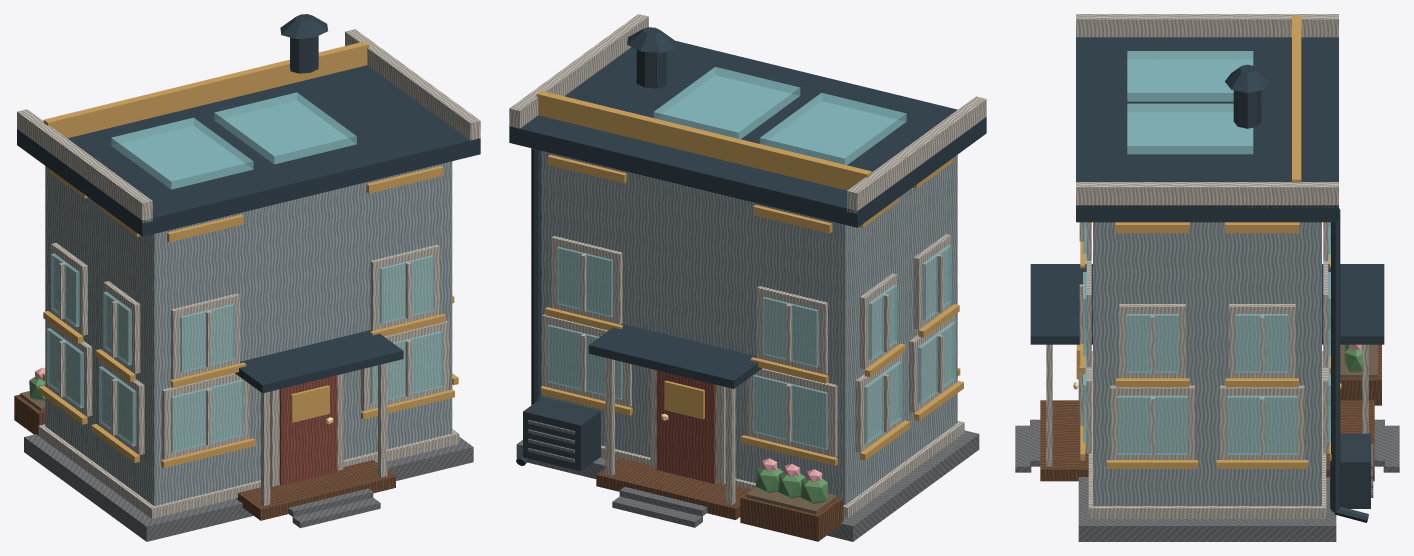
Rendered from house_lv5_b.glb.
The picture shows the model from 3 angles, left to right: view 1: azimuth 30°, elevation 25°; view 2: azimuth 150°, elevation 25°; view 3: azimuth 270°, elevation 25°; orthographic projection. The views are drawn at different scales.
Parts seen in each view (by area): view 1: walls, flat_roof, roof_terrace, foundation, solar_panel, solar_panel.001, front_window_frame, front_porch_canopy, front_door, front_window_frame.003, front_window_frame.002, front_window_frame.001 (+31 smaller); view 2: walls, flat_roof, roof_terrace, solar_panel, solar_panel.001, back_window_frame, back_porch_canopy, back_door, back_window_frame.003, back_window_frame.002, back_window_frame.001, foundation (+37 smaller); view 3: walls, flat_roof, foundation, parapet.001, solar_panel.001, parapet, right_window_frame, right_window_frame.001, solar_panel, right_window_frame.002, right_window_frame.003, front_porch_canopy (+31 smaller).
Part boxes in pixels (x1=…): walls: x1=45, y1=161, x2=452, y2=505; flat_roof: x1=17, y1=65, x2=480, y2=236; roof_terrace: x1=43, y1=41, x2=368, y2=138; foundation: x1=24, y1=434, x2=473, y2=541; solar_panel: x1=111, y1=117, x2=253, y2=189; solar_panel.001: x1=214, y1=92, x2=356, y2=164; front_window_frame: x1=161, y1=373, x2=248, y2=459; front_porch_canopy: x1=235, y1=330, x2=403, y2=393; front_door: x1=279, y1=375, x2=337, y2=485; front_window_frame.003: x1=370, y1=244, x2=439, y2=330; front_window_frame.002: x1=171, y1=293, x2=239, y2=379; front_window_frame.001: x1=361, y1=320, x2=448, y2=410; walls: x1=541, y1=150, x2=957, y2=504; flat_roof: x1=509, y1=41, x2=986, y2=227; roof_terrace: x1=536, y1=90, x2=871, y2=190; solar_panel: x1=759, y1=92, x2=906, y2=165; solar_panel.001: x1=653, y1=67, x2=800, y2=139; back_window_frame: x1=747, y1=368, x2=837, y2=457; back_porch_canopy: x1=588, y1=323, x2=761, y2=388; back_door: x1=656, y1=370, x2=715, y2=483; back_window_frame.003: x1=551, y1=236, x2=622, y2=324; back_window_frame.002: x1=757, y1=286, x2=827, y2=374; back_window_frame.001: x1=542, y1=314, x2=631, y2=407; foundation: x1=516, y1=430, x2=979, y2=541; walls: x1=1093, y1=222, x2=1321, y2=505; flat_roof: x1=1076, y1=37, x2=1338, y2=222; foundation: x1=1078, y1=379, x2=1336, y2=541; parapet.001: x1=1076, y1=182, x2=1338, y2=207; solar_panel.001: x1=1127, y1=103, x2=1253, y2=154; parapet: x1=1076, y1=14, x2=1338, y2=37; right_window_frame: x1=1110, y1=385, x2=1194, y2=459; right_window_frame.001: x1=1220, y1=385, x2=1304, y2=459; solar_panel: x1=1127, y1=51, x2=1253, y2=101; right_window_frame.002: x1=1119, y1=304, x2=1185, y2=378; right_window_frame.003: x1=1229, y1=304, x2=1295, y2=378; front_porch_canopy: x1=1030, y1=264, x2=1092, y2=344.
Size of the model in its own units: 6.6 by 7.6 by 6.19.
Materials: 13 (7 with a texture image).
